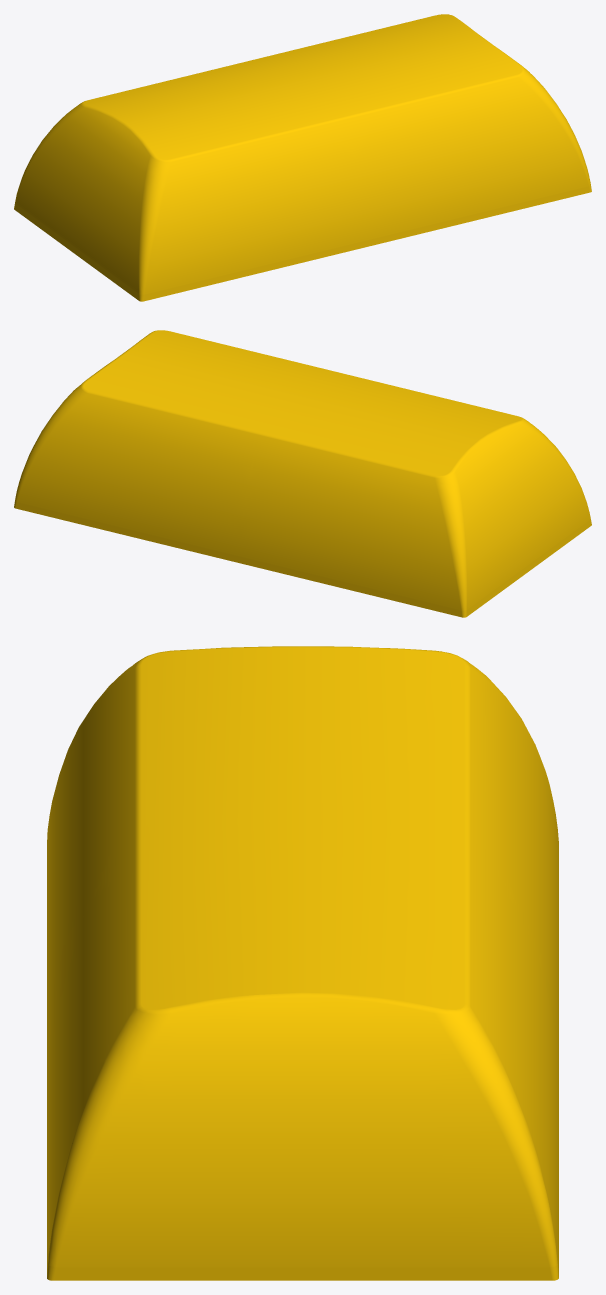
File: 2u_convex_compressed.glb
The picture shows the model from 3 angles, top to bottom: view 1: azimuth 30°, elevation 25°; view 2: azimuth 150°, elevation 25°; view 3: azimuth 270°, elevation 25°; orthographic projection. The views are drawn at different scales.
Parts seen in each view (by area): view 1: Body16; view 2: Body16; view 3: Body16.
Part boxes in pixels (x1,y1,x2,y2): Body16: [14, 14, 591, 301]; Body16: [14, 330, 591, 617]; Body16: [47, 646, 558, 1280].
Size of the model in its own units: 37.27 by 9.45 by 18.26.
